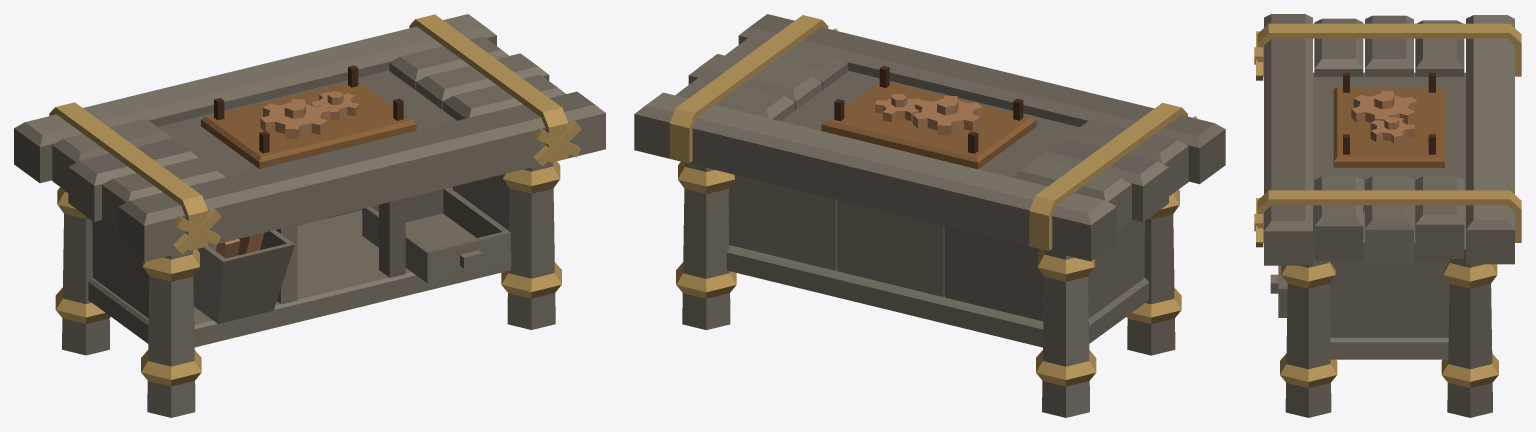
Rendered from upgradeable-assembly-workbench-a18ff3.glb.
The picture shows the model from 3 angles, left to right: view 1: azimuth 30°, elevation 25°; view 2: azimuth 150°, elevation 25°; view 3: azimuth 270°, elevation 25°; orthographic projection. The views are drawn at different scales.
Visible parts, largest first — view 1: workbench-body, jig-plate-mesh, output-tray-mesh, workpiece-mesh; view 2: workbench-body, jig-plate-mesh, workpiece-mesh; view 3: workbench-body, jig-plate-mesh, workpiece-mesh, output-tray-mesh.
Part boxes in pixels (x1=…): workbench-body: x1=14, y1=14, x2=605, y2=417; jig-plate-mesh: x1=201, y1=65, x2=416, y2=168; output-tray-mesh: x1=362, y1=187, x2=510, y2=283; workpiece-mesh: x1=260, y1=91, x2=359, y2=138; workbench-body: x1=634, y1=14, x2=1225, y2=417; jig-plate-mesh: x1=821, y1=66, x2=1036, y2=169; workpiece-mesh: x1=875, y1=94, x2=982, y2=135; workbench-body: x1=1254, y1=14, x2=1521, y2=417; jig-plate-mesh: x1=1333, y1=72, x2=1444, y2=167; workpiece-mesh: x1=1351, y1=90, x2=1417, y2=144; output-tray-mesh: x1=1270, y1=265, x2=1287, y2=317.
Size of the model in its own units: 2 by 0.956 by 1.06.
